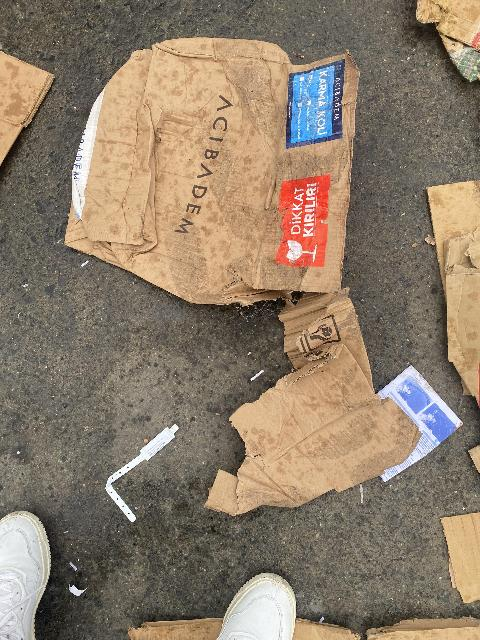Kagit: (64, 38, 361, 310), (196, 287, 420, 522), (425, 179, 480, 410), (374, 367, 464, 483), (0, 50, 56, 165), (415, 0, 480, 85), (436, 511, 480, 605), (469, 441, 480, 482)
